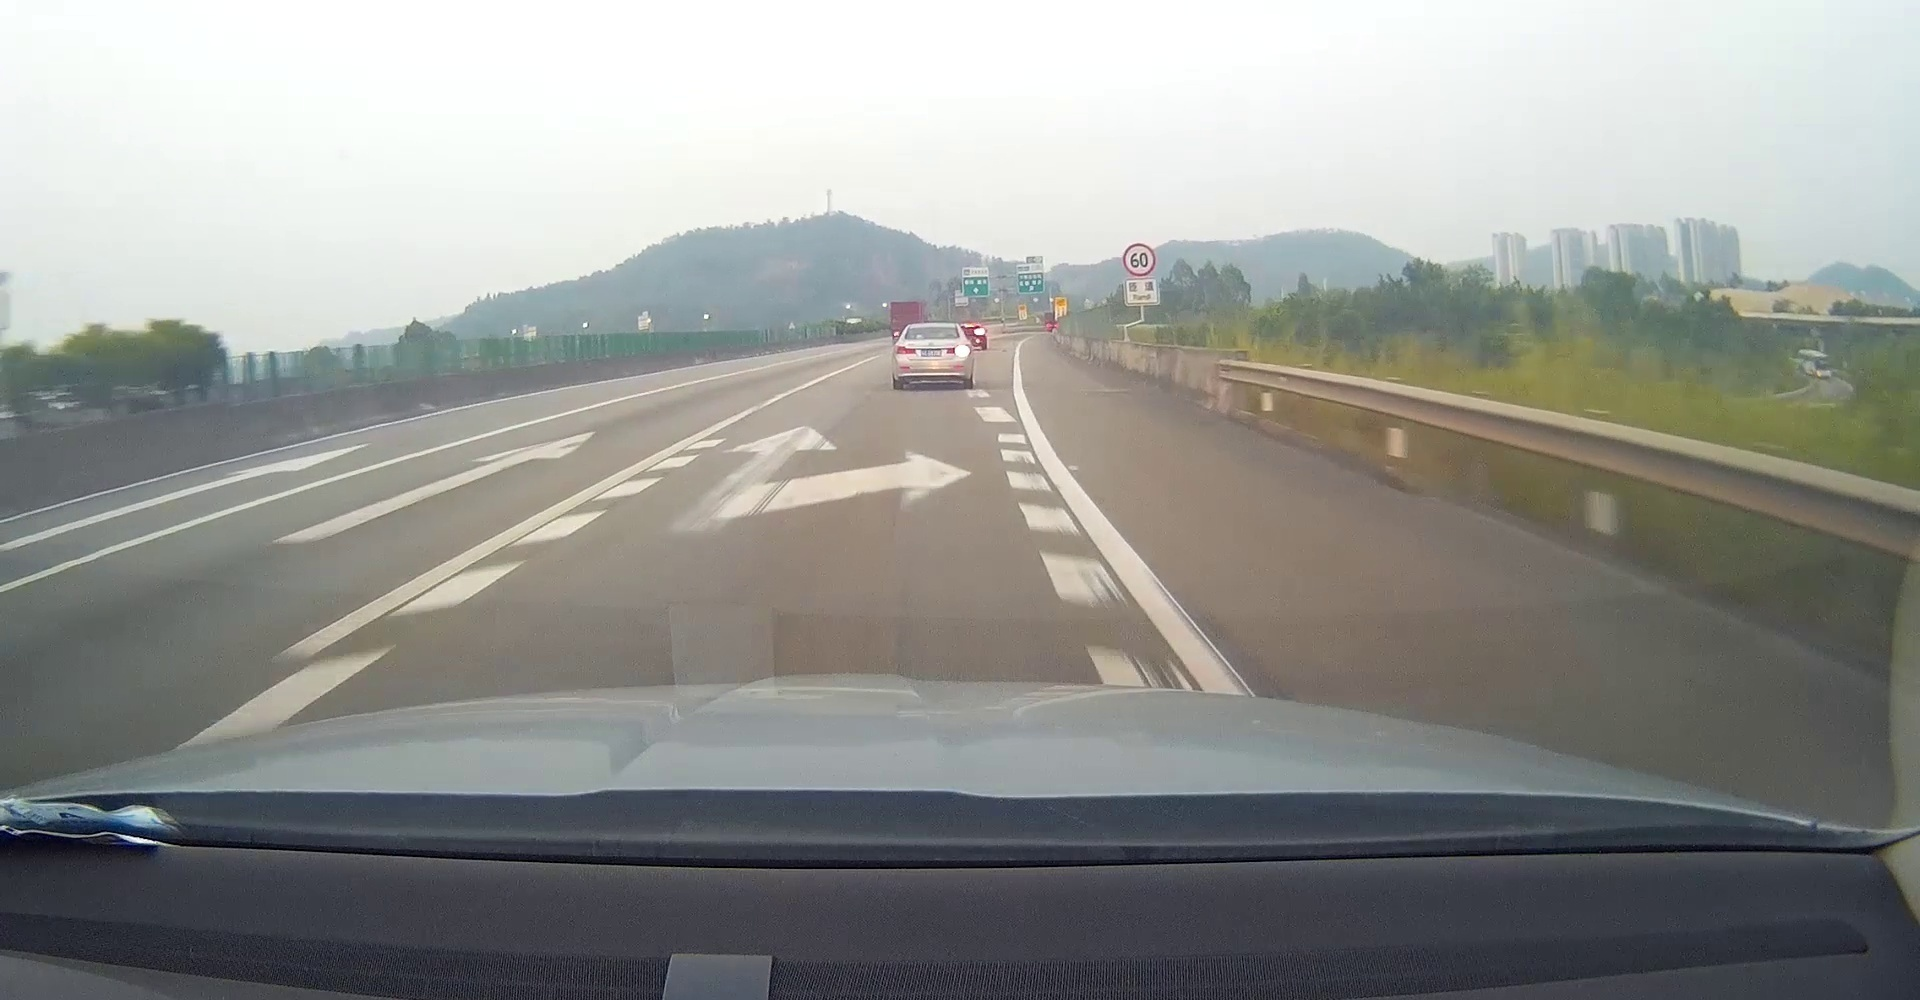L_light: (897, 346, 917, 355)
R_light: (946, 346, 969, 355)
T_light: (924, 325, 941, 329)
day-right: (891, 322, 973, 390)
